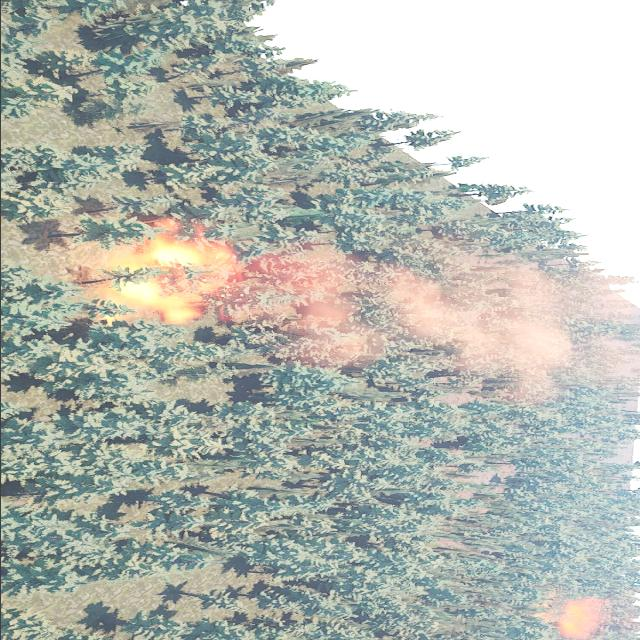fire: (105, 220, 236, 324), (554, 602, 586, 638)
smoke: (228, 246, 640, 409), (566, 598, 640, 640)
